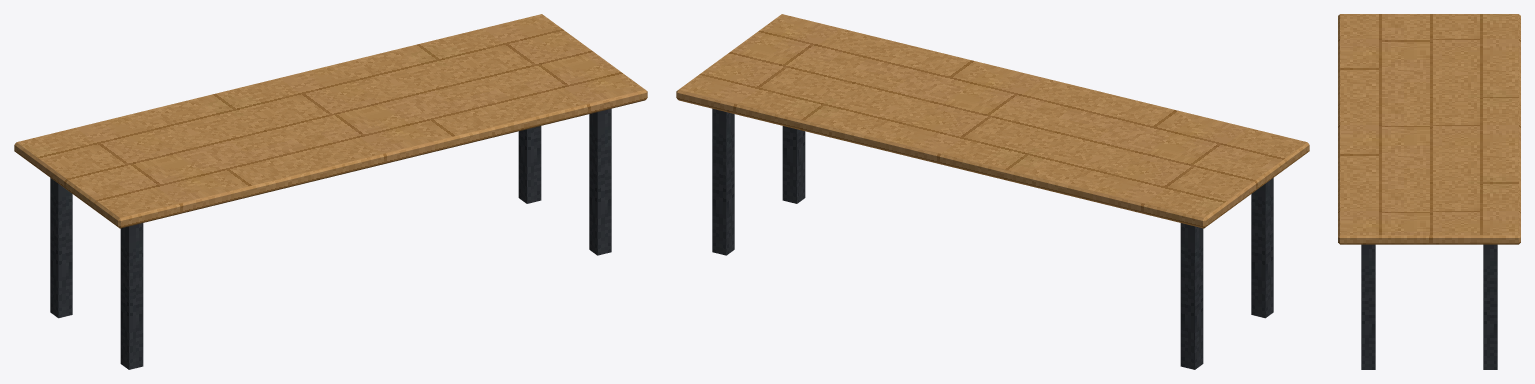
3 renders of one model, left to right at view 1: azimuth 30°, elevation 25°; view 2: azimuth 150°, elevation 25°; view 3: azimuth 270°, elevation 25°, orthographic. The views are drawn at different scales.
Parts seen in each view (by area): view 1: Decor_wood_display_table; view 2: Decor_wood_display_table; view 3: Decor_wood_display_table.
Boxes of the visible parts, x1,y1,x2,y2 form: Decor_wood_display_table: (14, 14, 647, 369); Decor_wood_display_table: (676, 14, 1309, 369); Decor_wood_display_table: (1338, 14, 1520, 369).
Bounding box in the file's own units: 2.6 × 0.78 × 0.9.
Materials: 2 (2 with a texture image).
